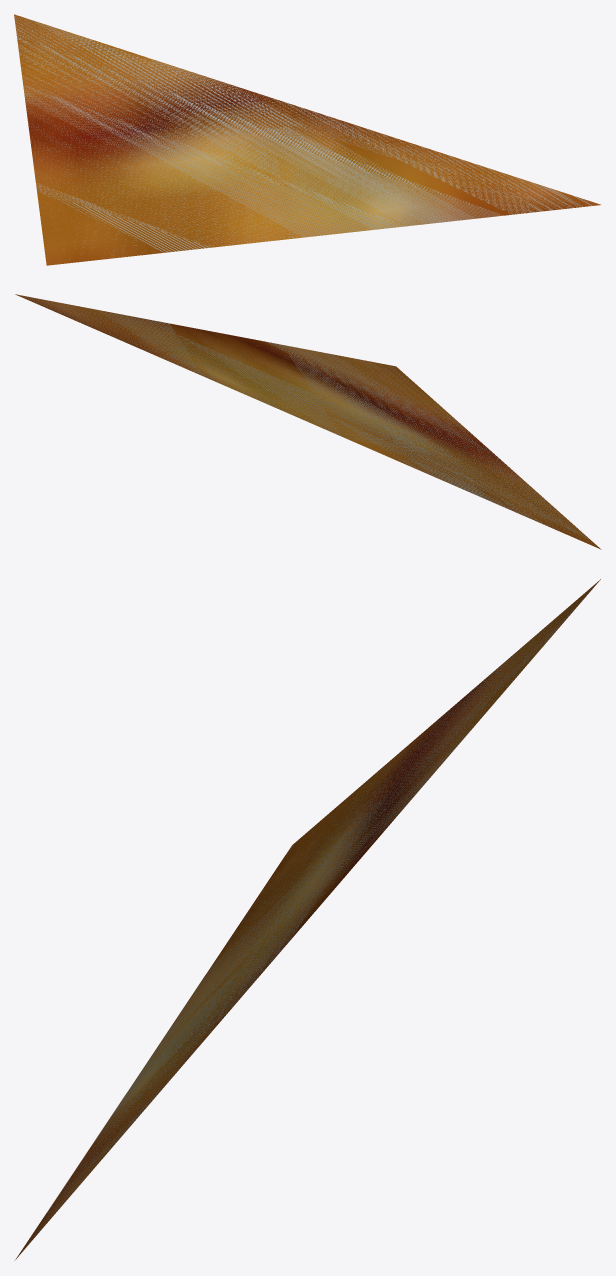
File: 西庸城堡570.dae
3 views of the same model, one above another, from view 1: azimuth 30°, elevation 25°; view 2: azimuth 150°, elevation 25°; view 3: azimuth 270°, elevation 25° (orthographic). The views are drawn at different scales.
Visible parts, largest first — view 1: SketchUp; view 2: SketchUp; view 3: SketchUp.
Part boxes in pixels (box(x1,y1,x2,y2)): SketchUp: box(14, 14, 601, 265); SketchUp: box(15, 294, 601, 549); SketchUp: box(15, 579, 600, 1259).
Size of the model in its own units: 16.28 by 9.67 by 5.7.
